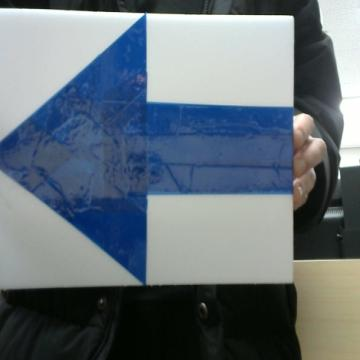blue_left: (0, 15, 291, 281)
